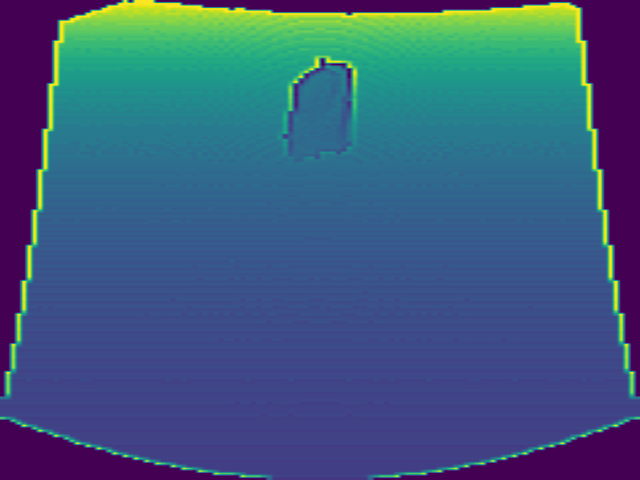car_0027: (281, 55, 360, 163)
